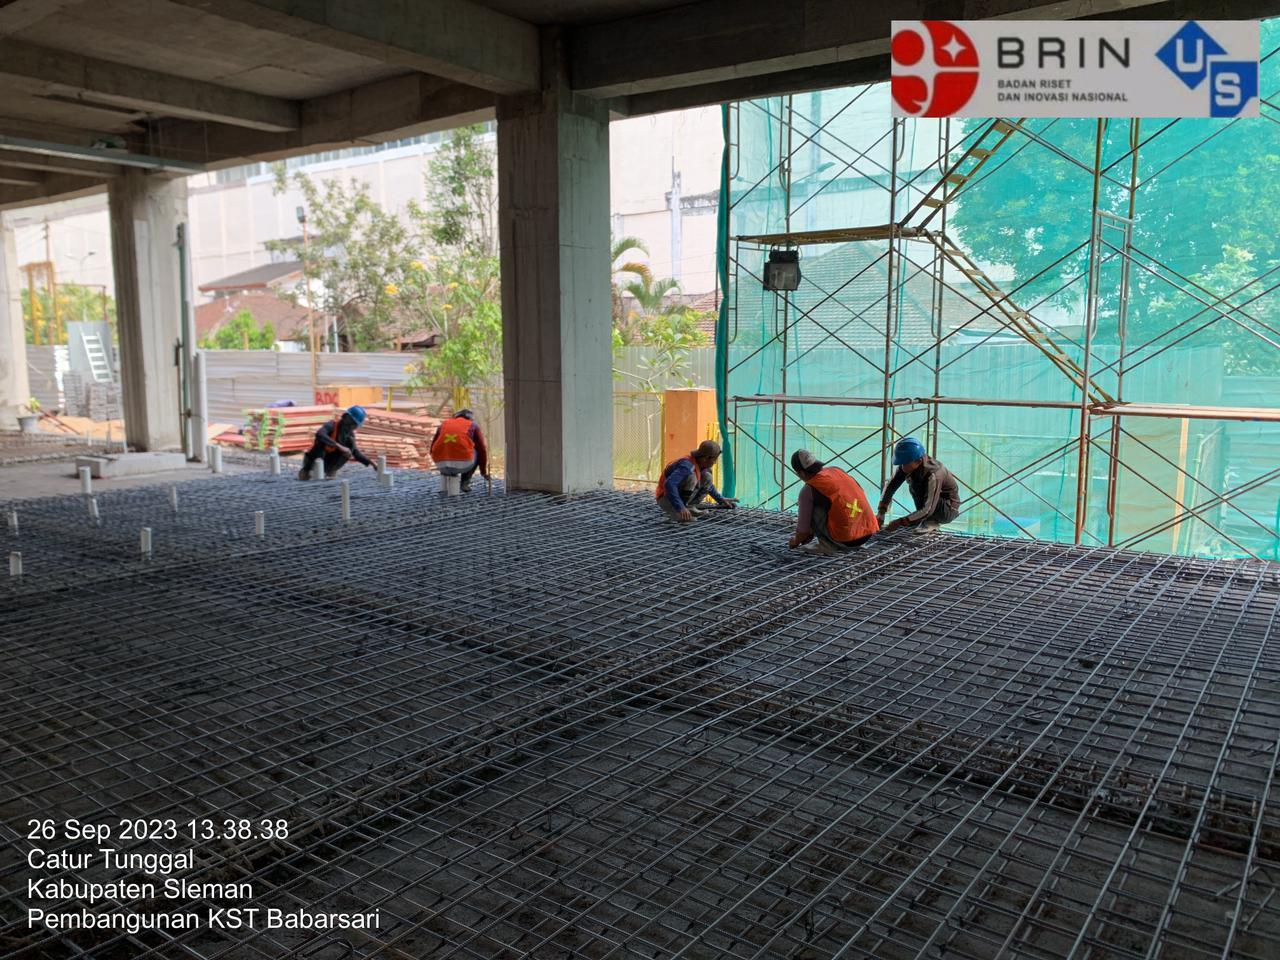hat: (875, 425, 934, 477), (341, 384, 378, 441)
no hat: (777, 440, 837, 485), (694, 432, 732, 475)
no vest: (898, 465, 968, 532)
vest: (801, 475, 884, 558), (430, 412, 484, 485), (655, 447, 707, 518), (308, 415, 355, 474)
